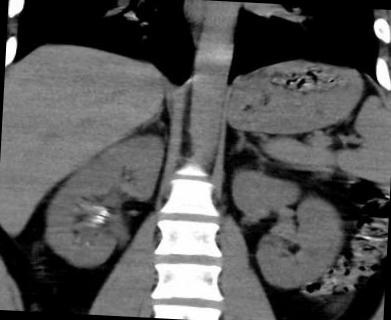Tas_Var: (93, 218, 106, 224), (96, 214, 108, 220), (97, 212, 108, 217), (101, 209, 109, 214)
